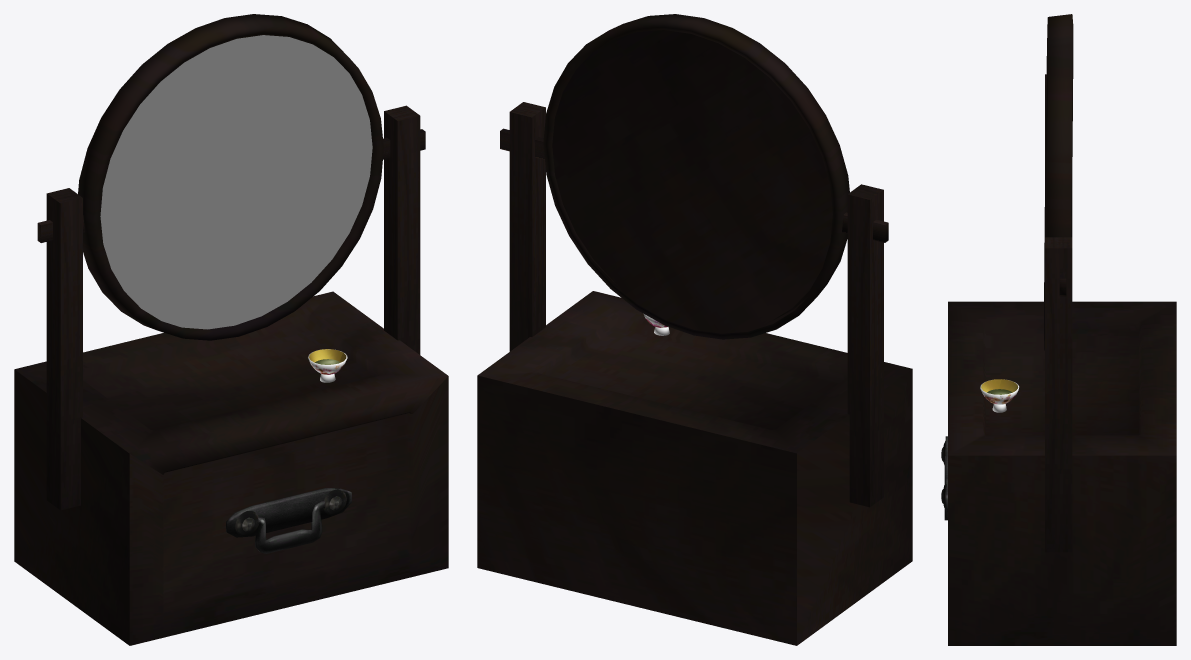
File: Mirror1.a.fbx
3 views of the same model, side by side, from view 1: azimuth 30°, elevation 25°; view 2: azimuth 150°, elevation 25°; view 3: azimuth 270°, elevation 25° (orthographic).
Parts seen in each view (by area): view 1: Group 0, Group 1; view 2: Group 0; view 3: Group 0.
Part boxes in pixels (bbox=[...]): Group 0: bbox=[14, 14, 448, 645]; Group 1: bbox=[100, 35, 372, 329]; Group 0: bbox=[477, 14, 912, 645]; Group 0: bbox=[941, 14, 1176, 645].
Bounding box in the file's own units: 39.74 × 53.66 × 21.27.
Materials: 2 (1 with a texture image).
